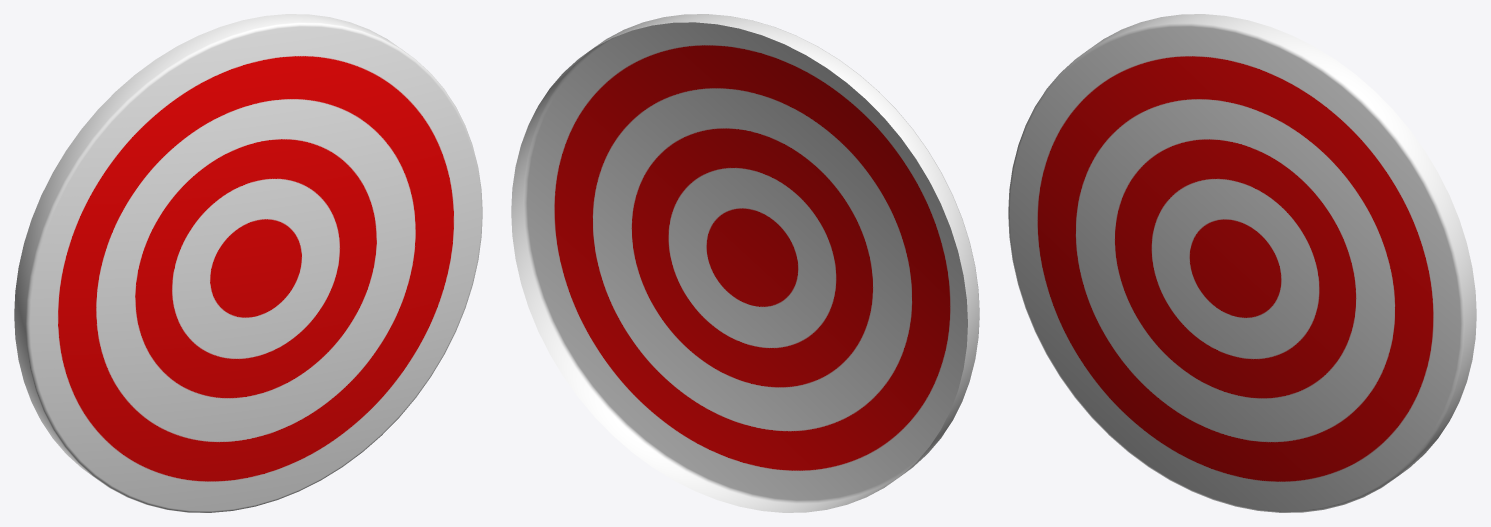
The model's file is Target.fbx.
3 views of the same model, side by side, from view 1: azimuth 30°, elevation 25°; view 2: azimuth 150°, elevation 25°; view 3: azimuth 330°, elevation 25° (orthographic).
Visible parts, largest first — view 1: Target; view 2: Target; view 3: Target.
Boxes of the visible parts, <box> form: Target: <box>14,14,482,512</box>; Target: <box>511,14,979,512</box>; Target: <box>1008,14,1476,512</box>.
Size of the model in its own units: 97.46 by 97.46 by 4.85.
